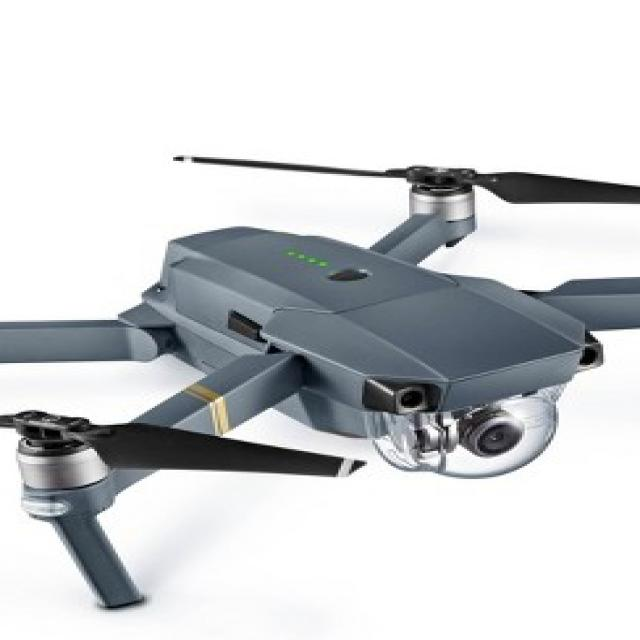drone: (0, 133, 640, 587)
